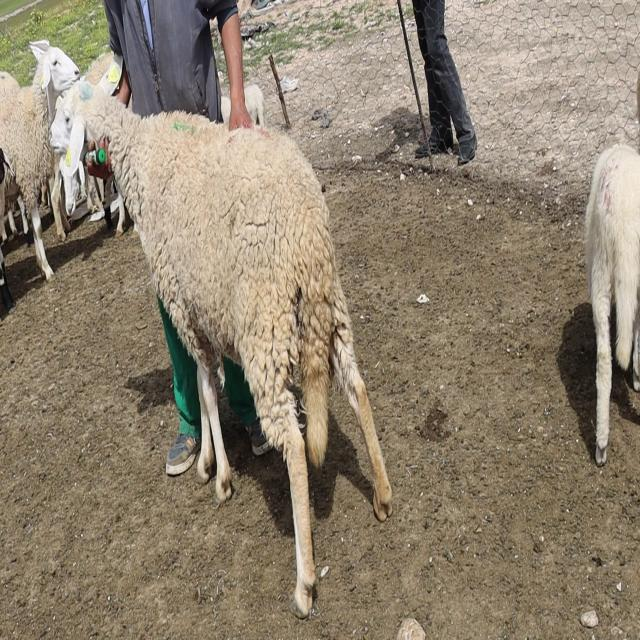Score_2: (50, 60, 391, 617)
